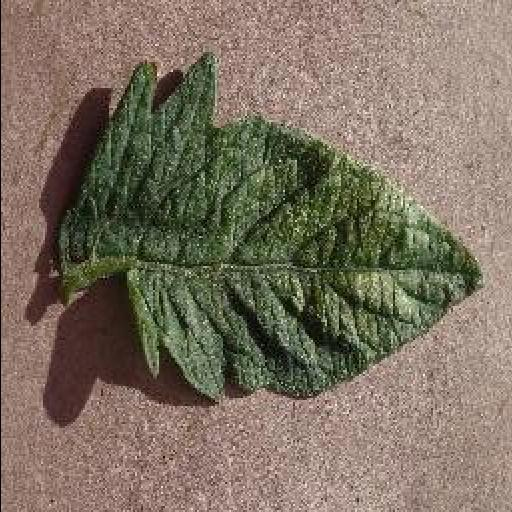disease_tomato: (58, 49, 484, 399)
